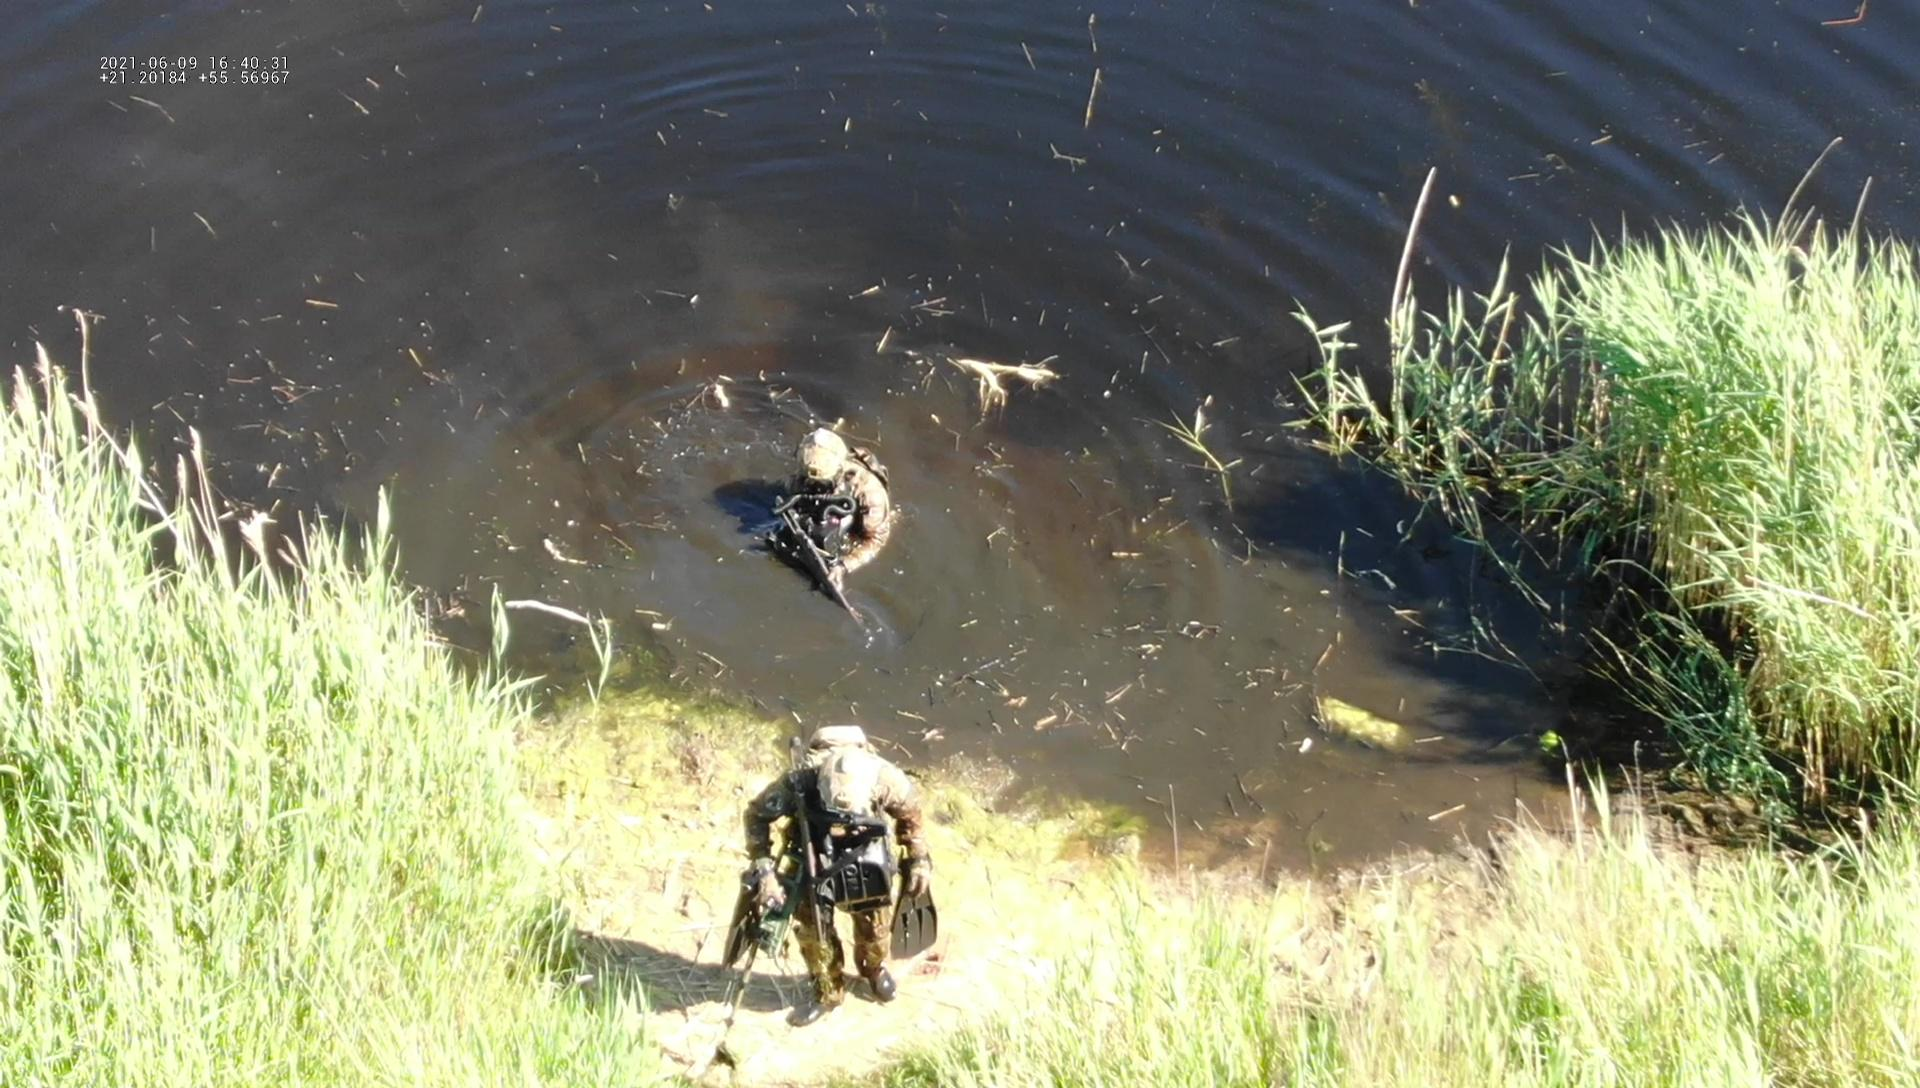Soldier: (720, 728, 938, 1025), (760, 425, 894, 636)
